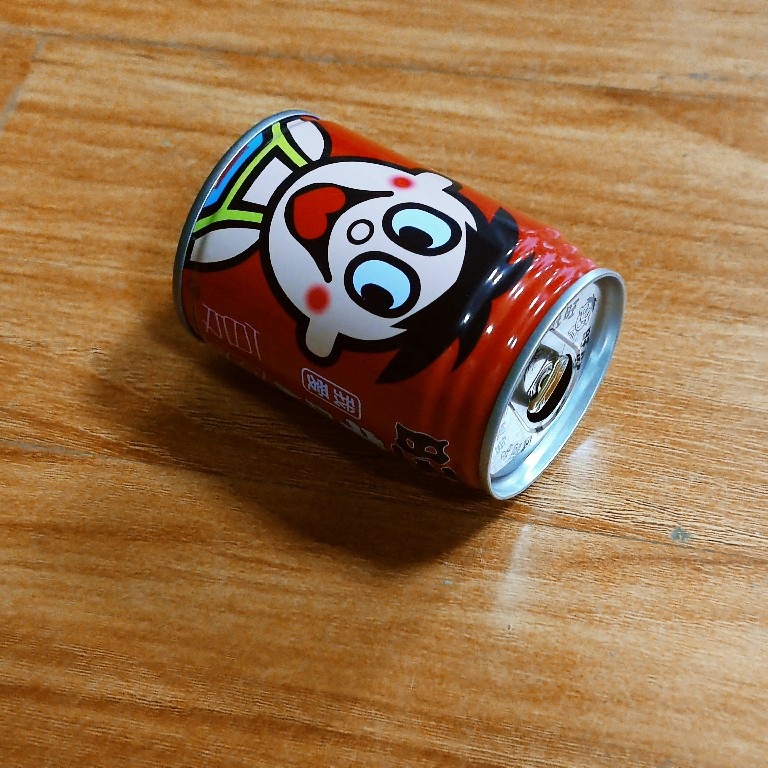can: (168, 107, 626, 508)
